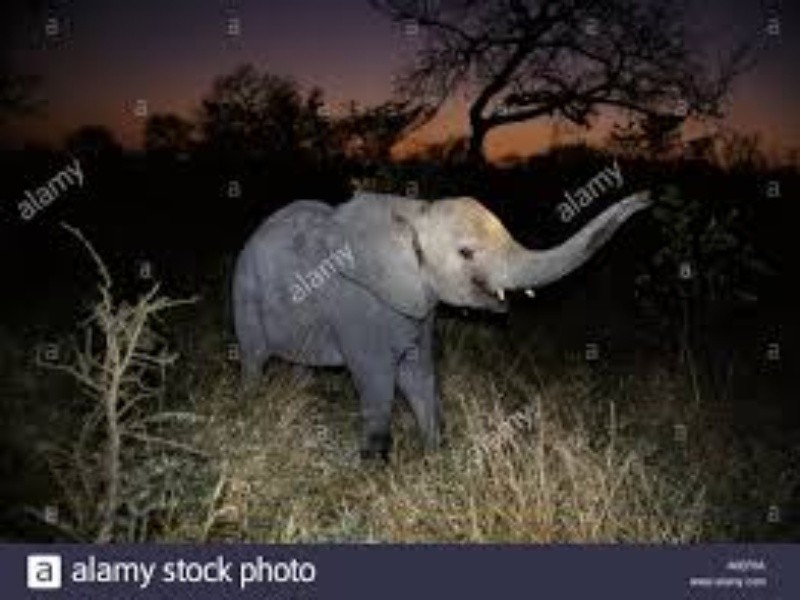elephant: (190, 139, 659, 477)
